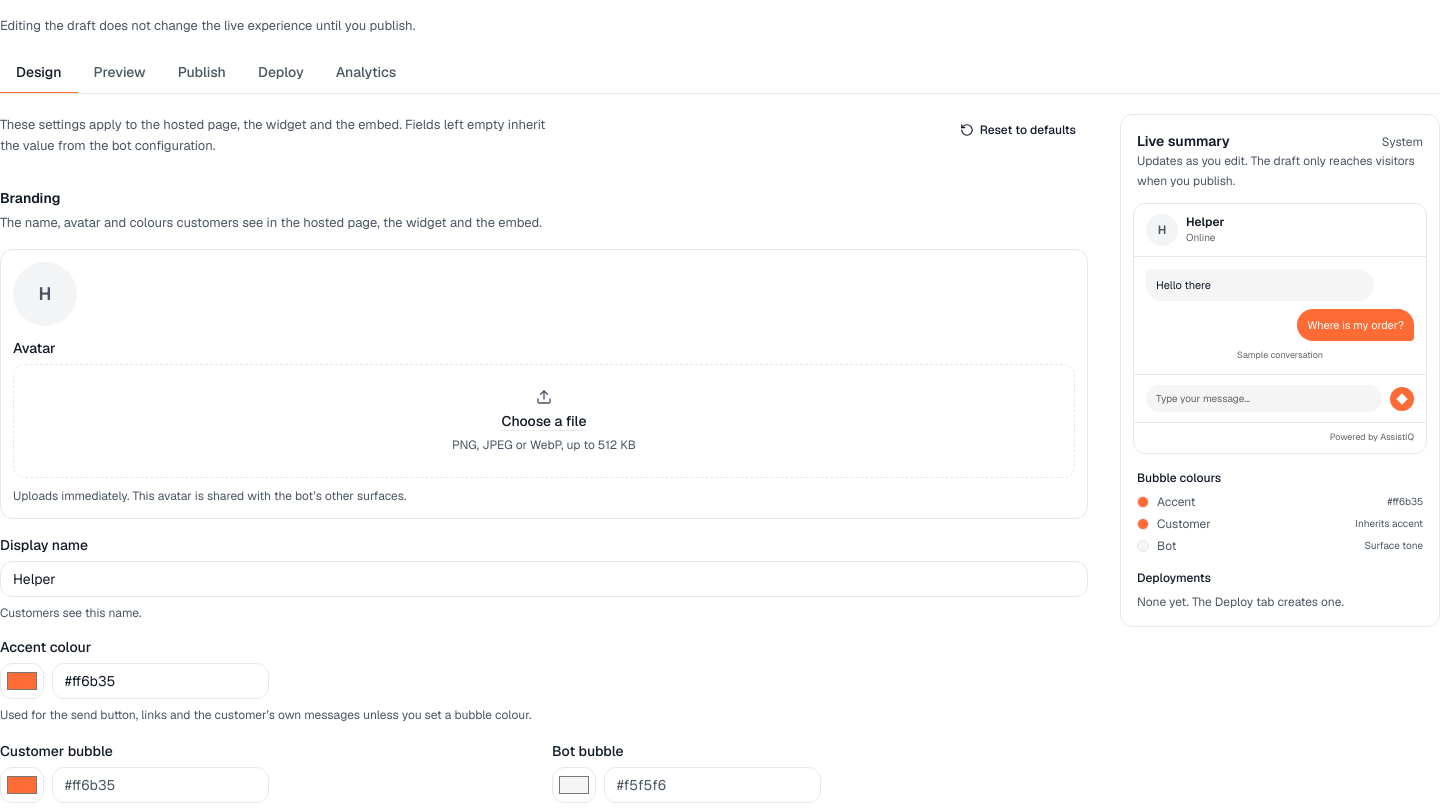
Test: ExperienceStudio › opens the conflict dialog on 409 instead of overwriting
The width and height of the screenshot is (1440, 810).
Type "Mine" into the field labelled "Display name" at x=544, y=579, box [0,561,1088,597]
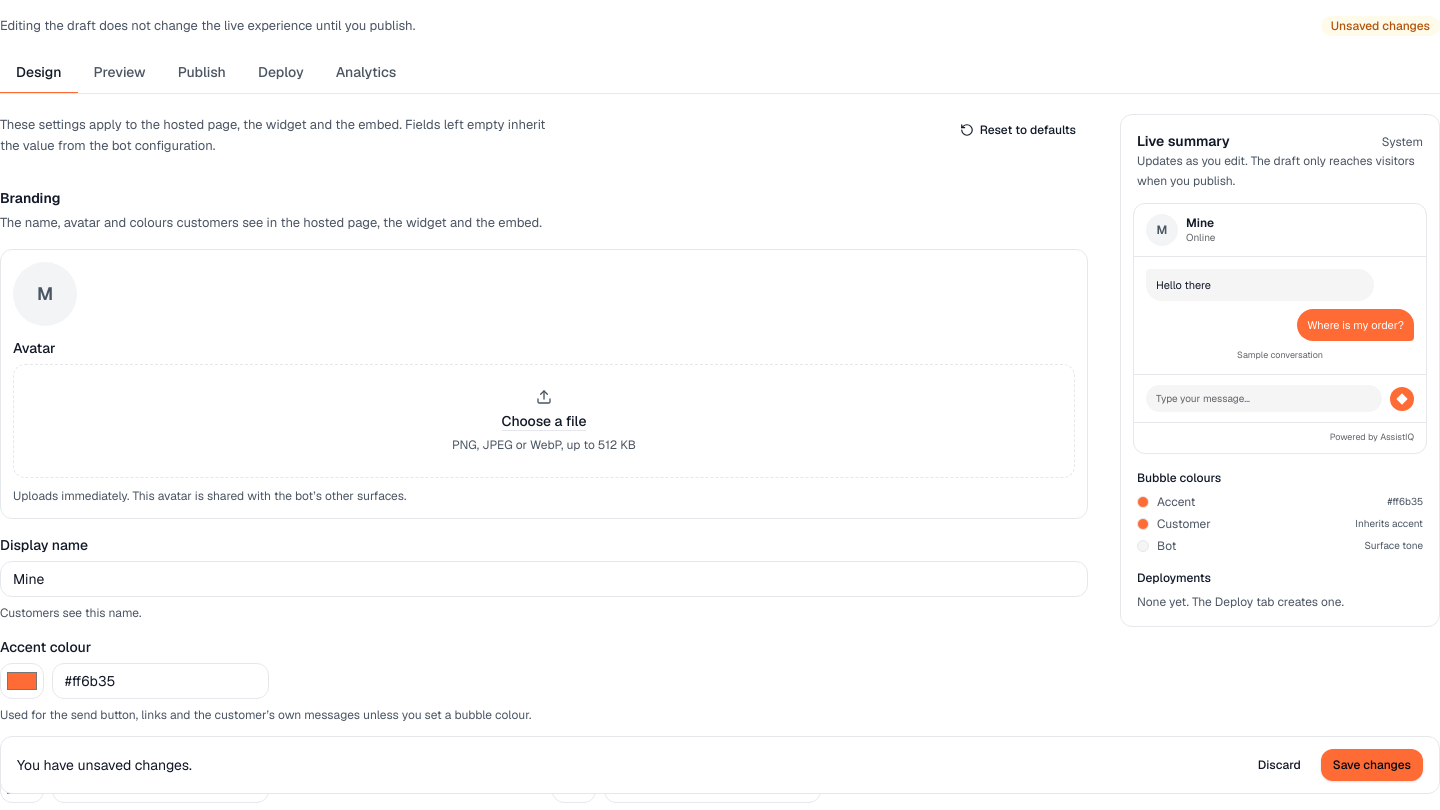
Click the button "Save changes" at x=1372, y=765, box [1321,749,1423,781]
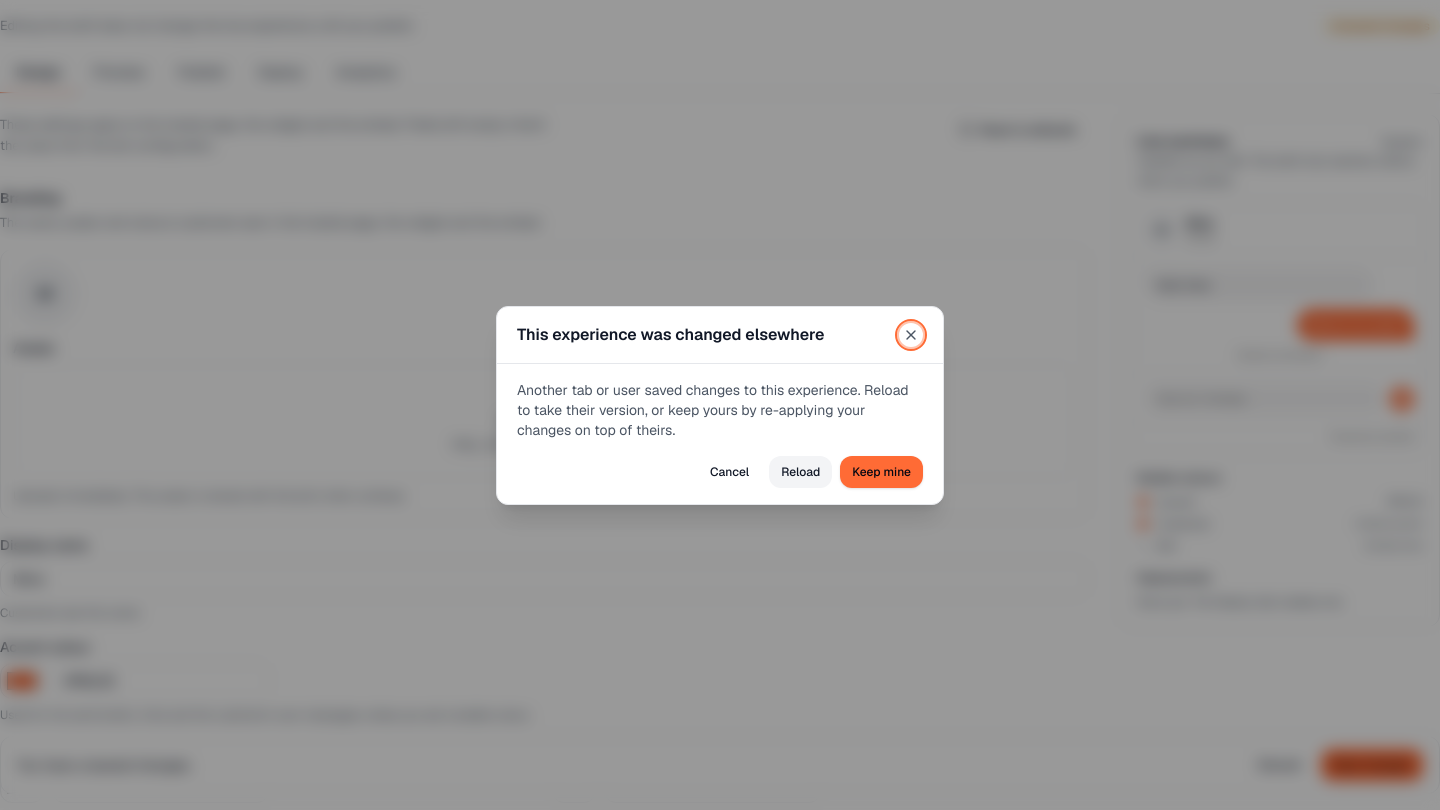
expect the heading "This experience was changed elsewhere" is shown: met, box [517,322,824,346]
Click the button "Reload" at x=801, y=472, box [769,456,832,488]
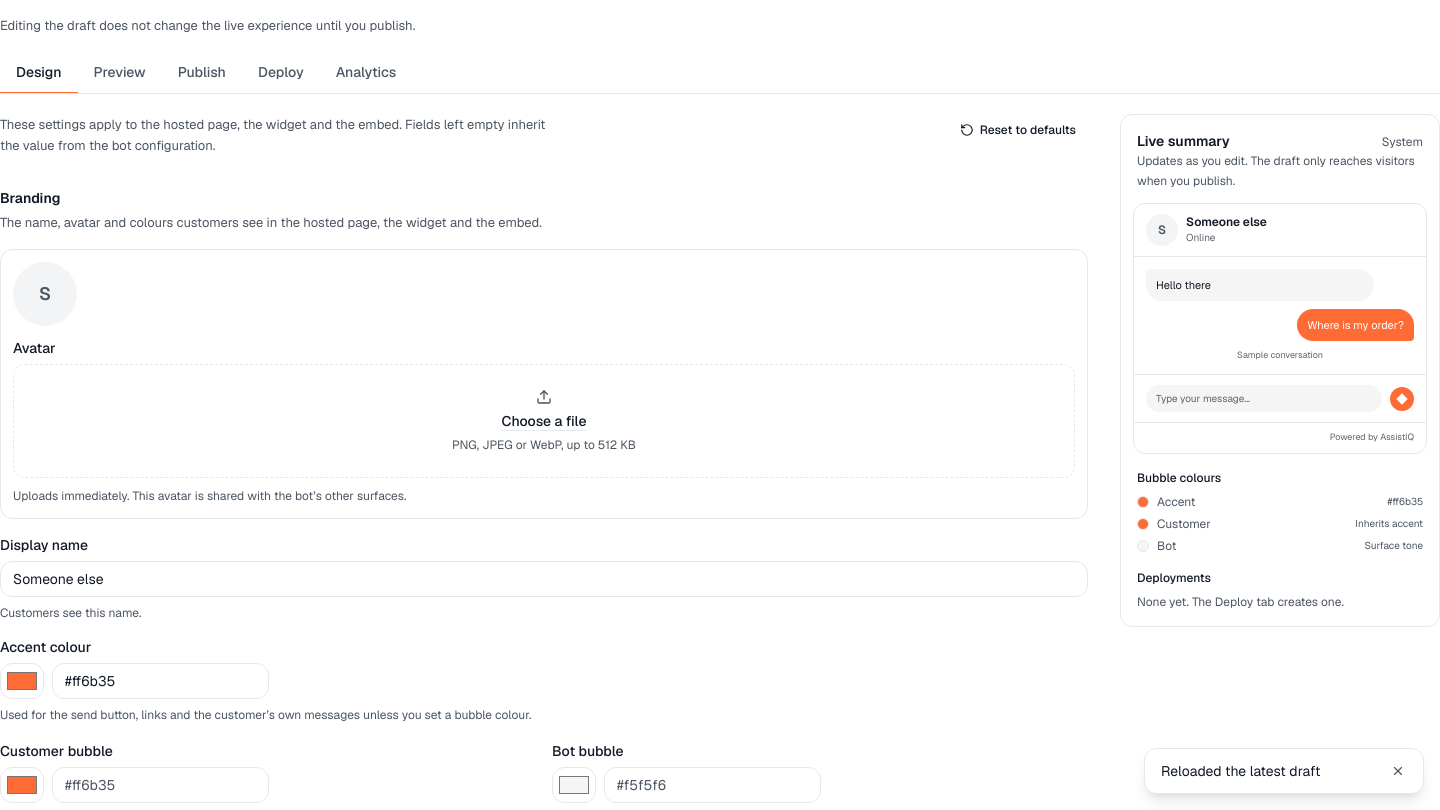
expect the field labelled "Display name" holds "Someone else": met, box [0,561,1088,597]
